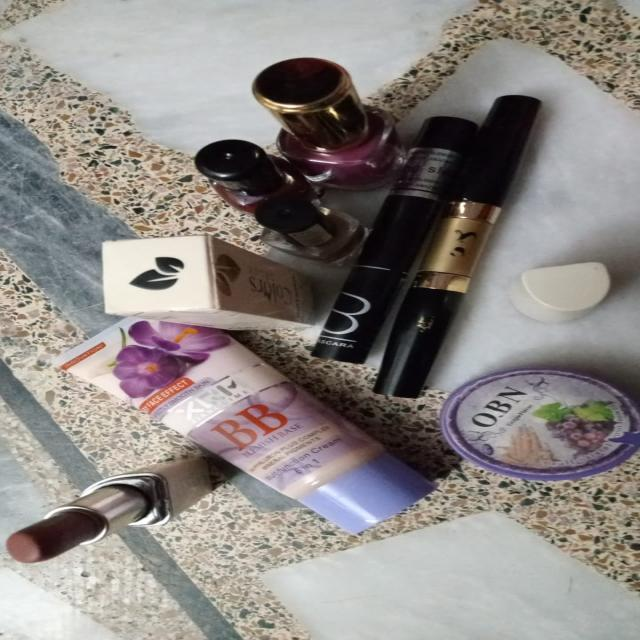bb cream: (34, 319, 415, 509)
lip stick: (0, 455, 202, 590)
mascara: (303, 96, 487, 370)
nail polish: (170, 49, 404, 262)
nail polish remover: (433, 365, 640, 477)
